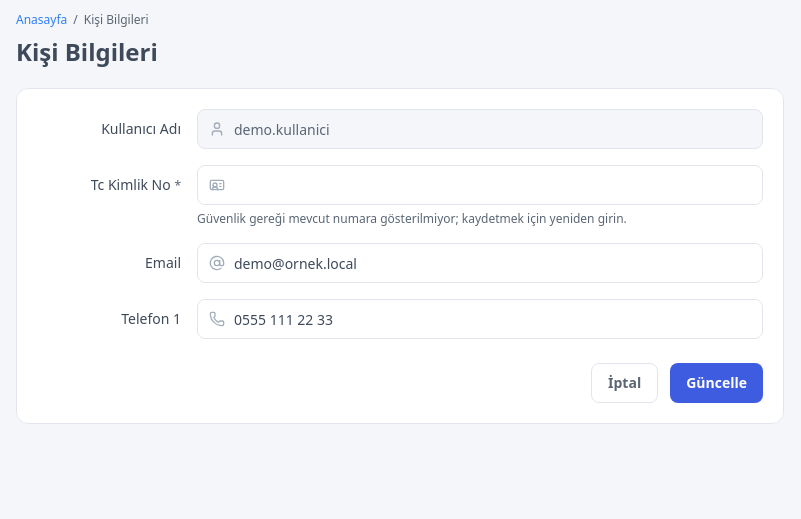
Test case: güncelleme › başarılı kayıtta bildirim gösterir
This screenshot has width=801, height=519.
Expected: the field labelled "Email" is shown, [197, 243, 763, 283]
In the field labelled "Tc Kimlik No *": (480, 185) [197, 165, 763, 205], type "12345678950"
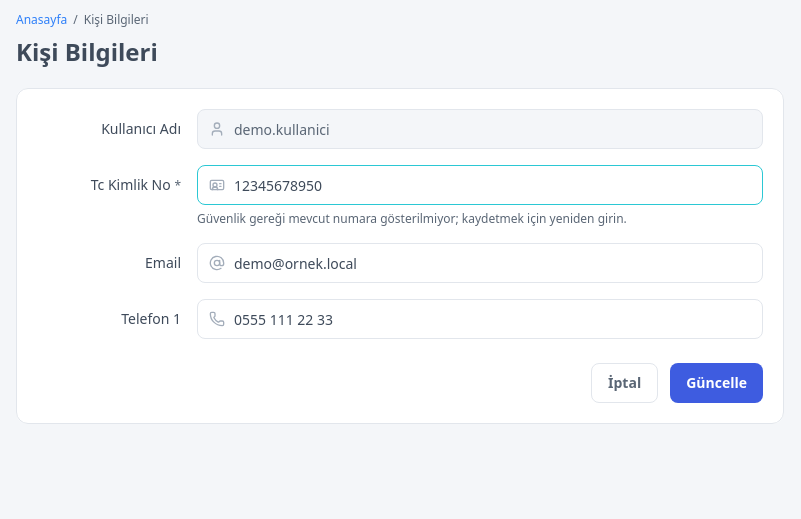
Click the button "Güncelle": (717, 383) [670, 363, 763, 403]
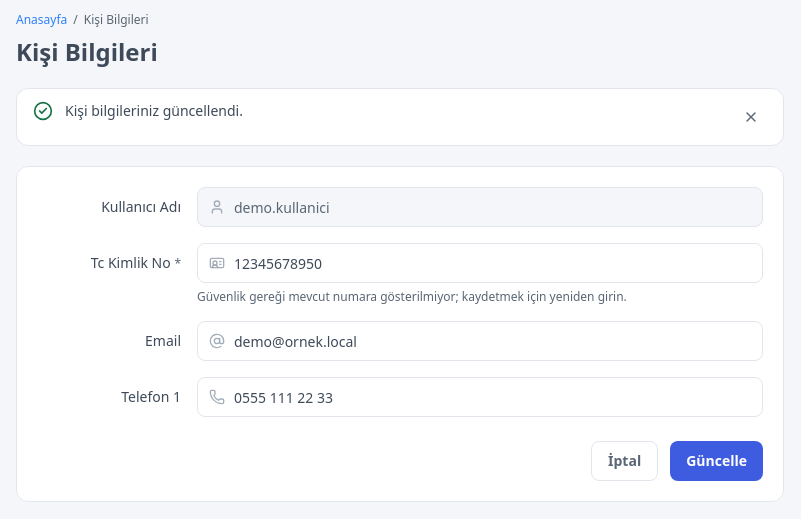
Now the message shows "güncellendi", box [65, 101, 243, 120]
